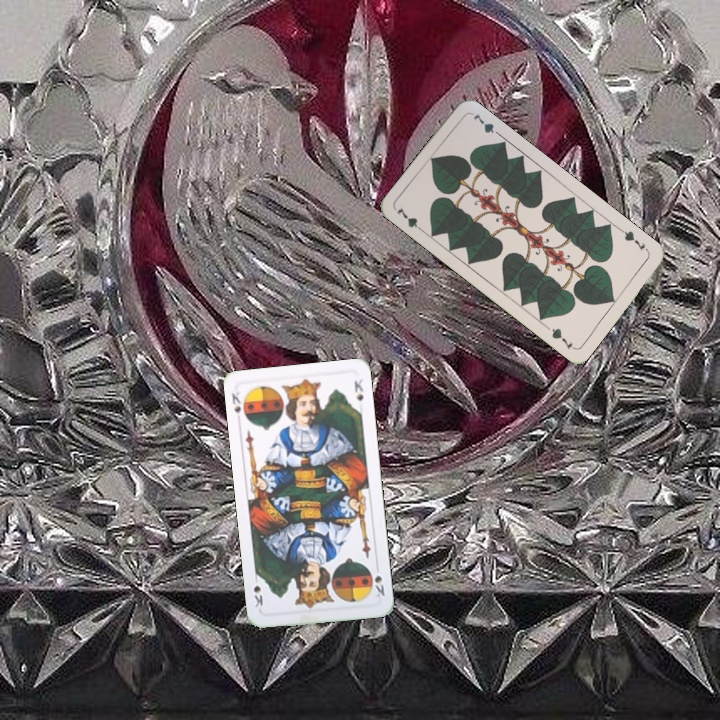G7: (393, 203, 427, 235), (616, 225, 647, 253)
SK: (371, 560, 387, 600), (227, 385, 243, 417)
